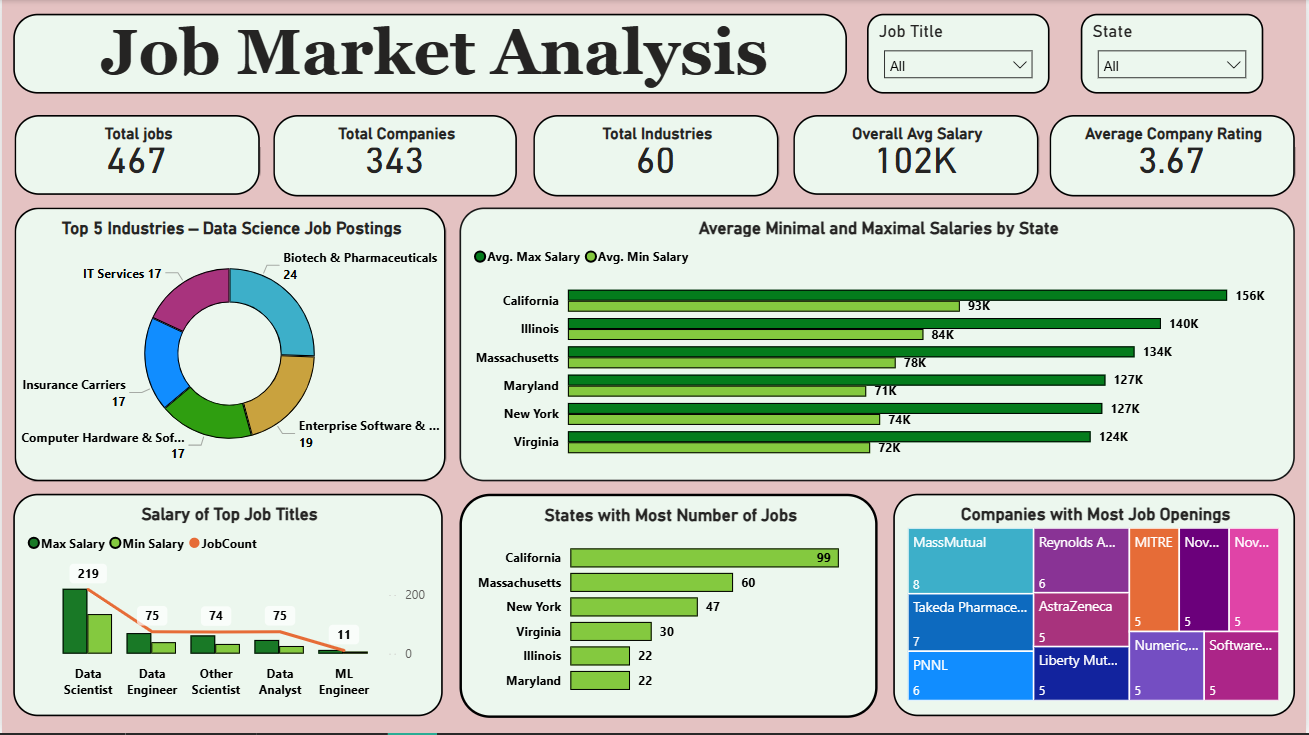

What the dashboard file says about the page in this screenshot:
{"tool":"powerbi","page":{"name":"Dashboard1","canvas":[1280,720],"ordinal":0},"visuals":[{"type":"clusteredBarChart","title":"Average Minimal and Maximal Salaries by State ","fields":{"Category":["Job_Table.State"],"Y":["Job_Table.AvgUpperSalary","Job_Table.AvgLowerSalary"]},"box":[448.6,204.3,820,268.6],"z":0},{"type":"card","title":"Total jobs","fields":{"Values":["Job_Table.TotalJobs"]},"box":[12.3,112.9,240.5,78.5],"z":1000},{"type":"card","title":"Overall Avg Salary","fields":{"Values":["Job_Table.OverallAvgSalary"]},"box":[776.7,112.9,240.5,78.5],"z":2000},{"type":"card","title":"Total Companies","fields":{"Values":["Count(Job_Table.Company_Name)"]},"box":[266.3,112.9,239.3,79.8],"z":3000},{"type":"textbox","title":"Job Market Analysis","box":[11,13.5,818.4,78.5],"z":4000},{"type":"treemap","title":"Companies with Most Job Openings","fields":{"Group":["Job_Table.Company_Name"],"Values":["Job_Table.CompanyJobCount"]},"box":[874.3,484.3,394.3,218.6],"z":5000},{"type":"card","title":"Average Company Rating","fields":{"Values":["Avg(Job_Table.Rating)"]},"box":[1028.2,112.9,240.5,79.8],"z":6000},{"type":"card","title":"Total Industries","fields":{"Values":["Count(Job_Table.Industry)"]},"box":[521.5,112.9,240.5,79.8],"z":7000},{"type":"lineClusteredColumnComboChart","title":"Salary of Top Job Titles","fields":{"Category":["Job_Table.job_title_sim"],"Y":["Sum(Job_Table.Upper_salary)","Sum(Job_Table.Lower_salary)"],"Y2":["Job_Table.JobCount"]},"box":[11.4,484.3,421.4,218.6],"z":8000},{"type":"clusteredBarChart","title":"States with Most Number of Jobs","fields":{"Category":["Job_Table.State"],"Y":["Job_Table.JobCount"]},"box":[448.6,484.3,410,220],"z":9000},{"type":"donutChart","title":"Top 5 Industries – Data Science Job Postings","fields":{"Category":["Job_Table.Industry"],"Y":["Job_Table.DataScience_JobCount"]},"box":[12.3,203.7,423.3,268.7],"z":10000},{"type":"slicer","title":"Job Title","fields":{"Values":["DIM_Job_Table.Job_Title"]},"box":[849.1,13.5,179.1,78.5],"z":11000},{"type":"slicer","title":"State","fields":{"Values":["Job_Market_Table.State"]},"box":[1058.9,13.5,179.1,78.5],"z":12000}]}

Visuals, with their boxes in screenshot pixels (x1, y1, x2, y2), scaled from the page's 1280x720 canvas onto the 1309x735 screenshot:
"Average Minimal and Maximal Salaries by State " clusteredBarChart: bbox=[459, 209, 1297, 483]
"Total jobs" card: bbox=[13, 115, 259, 195]
"Overall Avg Salary" card: bbox=[794, 115, 1040, 195]
"Total Companies" card: bbox=[272, 115, 517, 197]
"Job Market Analysis" textbox: bbox=[11, 14, 848, 94]
"Companies with Most Job Openings" treemap: bbox=[894, 494, 1297, 718]
"Average Company Rating" card: bbox=[1051, 115, 1297, 197]
"Total Industries" card: bbox=[533, 115, 779, 197]
"Salary of Top Job Titles" lineClusteredColumnComboChart: bbox=[12, 494, 443, 718]
"States with Most Number of Jobs" clusteredBarChart: bbox=[459, 494, 878, 719]
"Top 5 Industries – Data Science Job Postings" donutChart: bbox=[13, 208, 445, 482]
"Job Title" slicer: bbox=[868, 14, 1051, 94]
"State" slicer: bbox=[1083, 14, 1266, 94]
